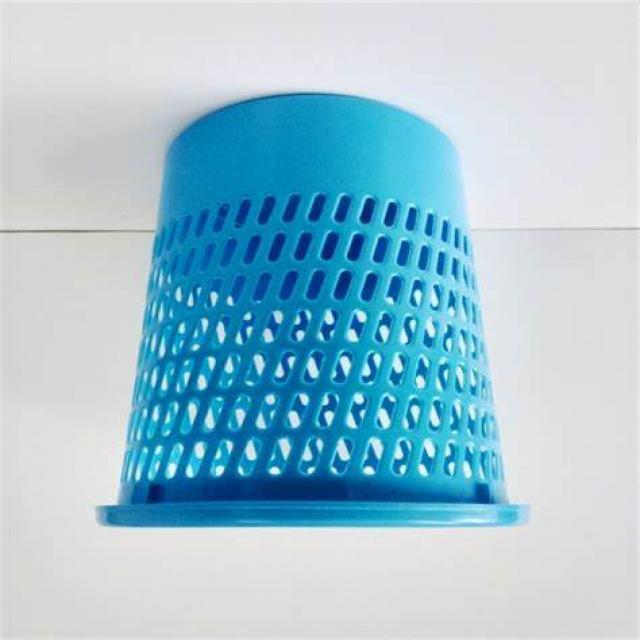garbage container: (77, 82, 565, 565)
